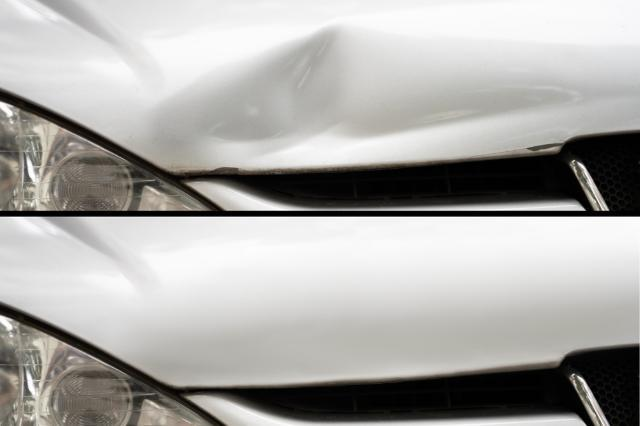dent: (168, 26, 579, 174)
